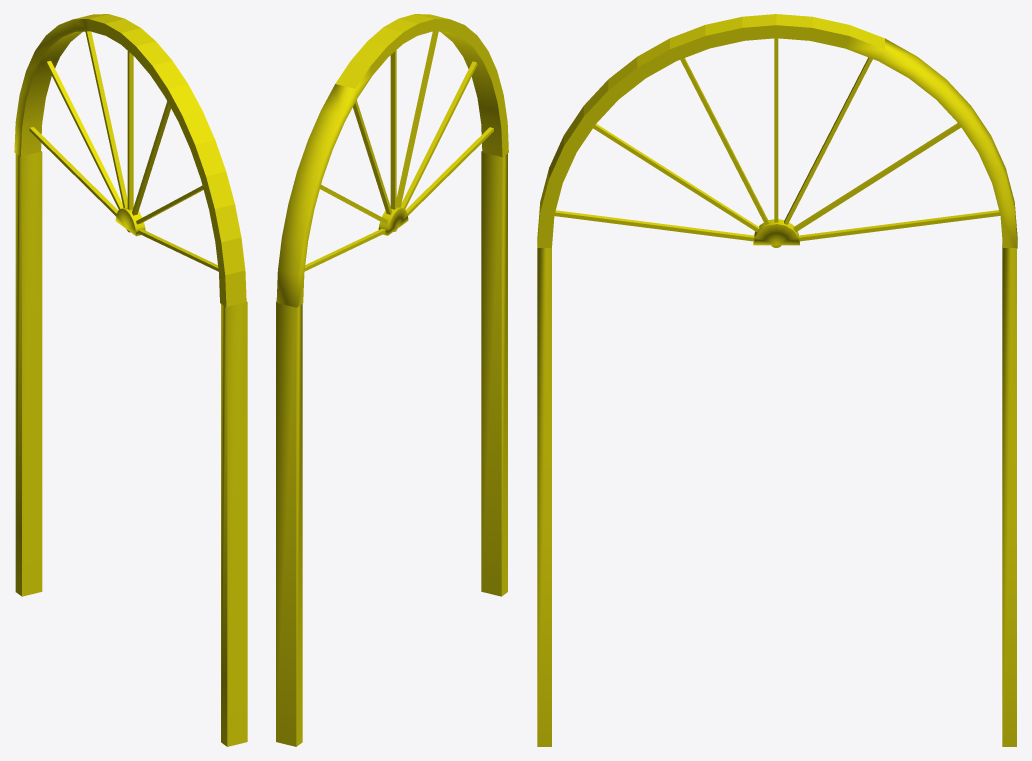
File: Large_Window_Up.fbx
3 views of the same model, side by side, from view 1: azimuth 30°, elevation 25°; view 2: azimuth 150°, elevation 25°; view 3: azimuth 270°, elevation 25° (orthographic). The views are drawn at different scales.
Parts seen in each view (by area): view 1: Large_Window_Up; view 2: Large_Window_Up; view 3: Large_Window_Up.
Part boxes in pixels (x1,y1,x2,y2): Large_Window_Up: (14,14,247,746); Large_Window_Up: (276,14,508,746); Large_Window_Up: (537,14,1017,746).
Bounding box in the file's own units: 15.09 × 435 × 262.
